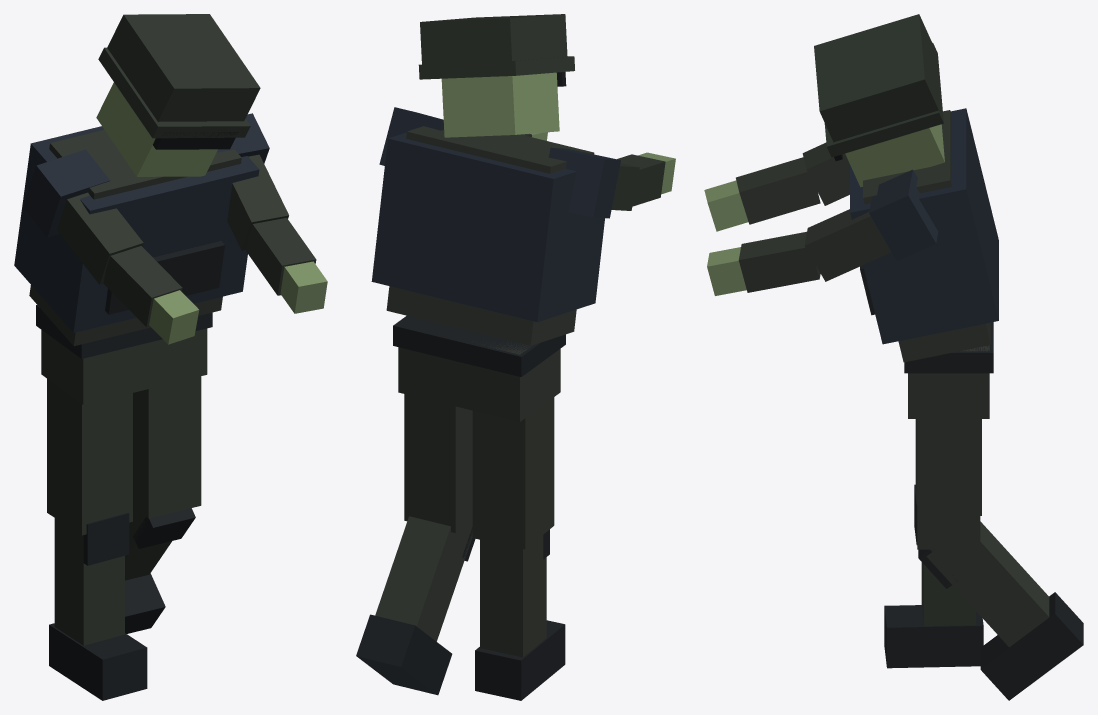
Rendered from zombie_armored.glb.
3 views of the same model, side by side, from view 1: azimuth 30°, elevation 25°; view 2: azimuth 150°, elevation 25°; view 3: azimuth 270°, elevation 25° (orthographic). The views are drawn at different scales.
Parts seen in each view (by area): view 1: zombie_armored; view 2: zombie_armored; view 3: zombie_armored.
Part boxes in pixels (x1,y1,x2,y2): zombie_armored: [14, 14, 327, 700]; zombie_armored: [356, 14, 675, 700]; zombie_armored: [704, 14, 1083, 700].
Size of the model in its own units: 0.689 by 2.01 by 1.06.
